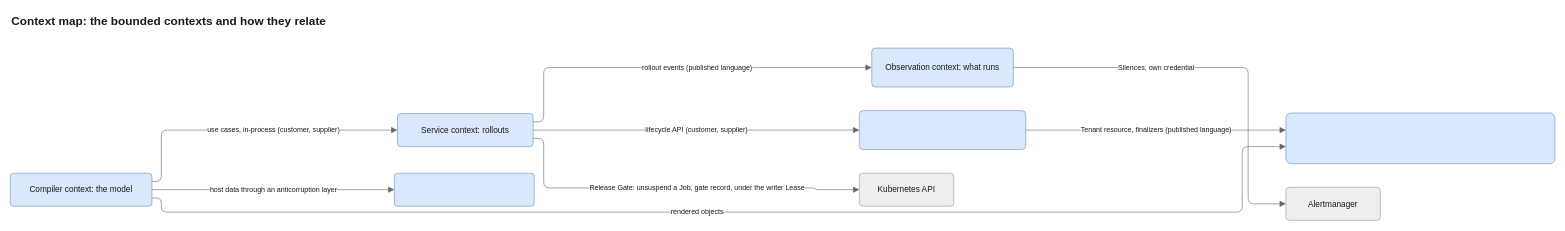
The diagram is 1565 pixels wide and 231 high, and some of its shapes have lost their labels. The shapes that lost their labels are listed below. From the top down, each one's centre as x and y in pixels, then its label:
At [942,130]: "Tenancy context: Tenants and their lifecycle".
At [1420,138]: "Component contexts: migrations, secrets, catalogs, backups, mailboxes".
At [464,189]: "Hosts context: generations".
